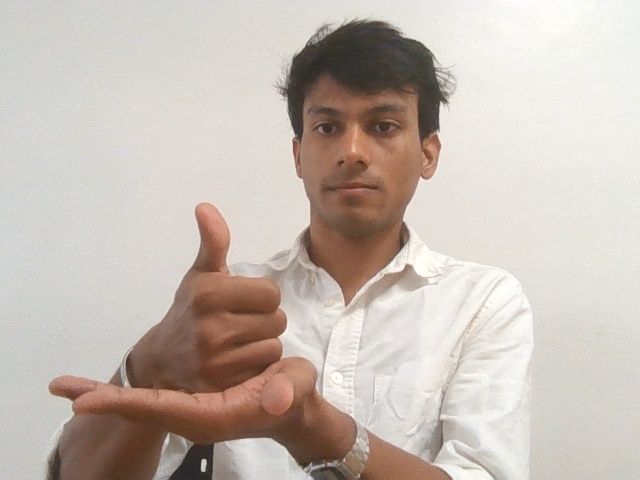Help: (43, 202, 327, 441)
